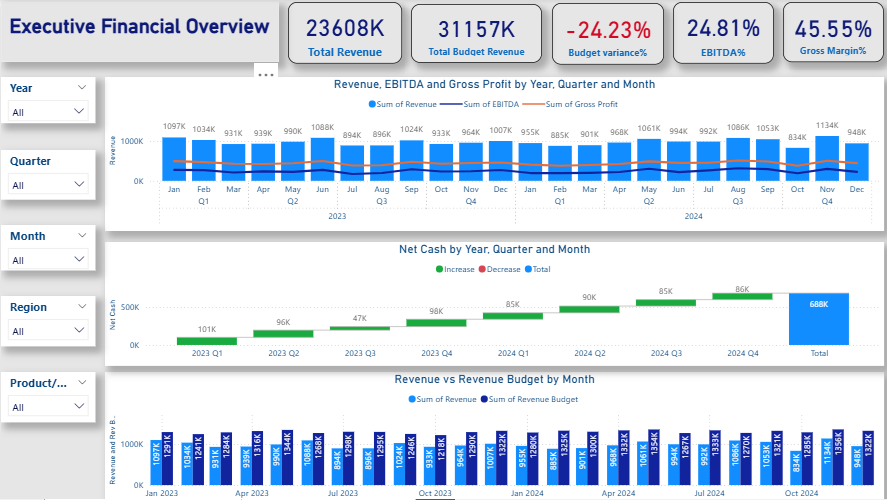

This screenshot's page, from the dashboard's own definition file:
{"tool":"powerbi","page":{"name":"Executive Financial Overview","canvas":[1280,720],"ordinal":0},"visuals":[{"type":"card","fields":{"Values":["Data.Total_Revenue"]},"box":[410.4,0,162.7,87.8],"z":0},{"type":"card","fields":{"Values":["Data.Gross_Margin%"]},"box":[1117.4,0,144,86.4],"z":1000},{"type":"card","fields":{"Values":["Data.EBITDA%"]},"box":[960.5,0,144,87.8],"z":2000},{"type":"lineClusteredColumnComboChart","title":"Revenue, EBITDA and Gross Profit by Year, Quarter and Month","fields":{"Y":["Sum(Data.Revenue)"],"Y2":["Sum(Data.EBITDA)","Sum(Data.Gross Profit)"],"Category":["DateTable.Year Hierarchy.Year","DateTable.Year Hierarchy.Quarter","DateTable.Year Hierarchy.Month_Name"]},"box":[148.3,106.6,1113.1,220.3],"z":3000},{"type":"clusteredColumnChart","title":"Revenue vs Revenue Budget by Month","fields":{"Category":["Data.Month.Variation.Date Hierarchy.Year"],"Y":["Sum(Data.Revenue)","Sum(Data.Revenue Budget)"]},"box":[148.2,528.9,1113.3,191.6],"z":4000},{"type":"waterfallChart","title":"Net Cash by Year, Quarter and Month","fields":{"Category":["DateTable.Year Hierarchy.Year","DateTable.Year Hierarchy.Quarter","DateTable.Year Hierarchy.Month_Name"],"Y":["Data.Net_Cash"]},"box":[148.2,343.4,1113.3,177.1],"z":5000},{"type":"slicer","fields":{"Values":["DateTable.Year"]},"box":[0,107.2,134.9,66.3],"z":6000},{"type":"slicer","fields":{"Values":["DateTable.Quarter"]},"box":[0,211.7,135.4,70.6],"z":7000},{"type":"slicer","fields":{"Values":["DateTable.Month_Name"]},"box":[0,318.2,135.4,64.8],"z":8000},{"type":"textbox","box":[0,0,397.4,86.4],"z":9000},{"type":"slicer","fields":{"Values":["Data.Region"]},"box":[0,420.5,135.4,72],"z":10000},{"type":"slicer","fields":{"Values":["Data.Product/Service"]},"box":[0,528.5,135.4,72],"z":11000},{"type":"card","fields":{"Values":["Data.Total_Budget_variance%"]},"box":[787.7,1.4,159.8,87.8],"z":12000},{"type":"card","fields":{"Values":["Data.Total_Budget_Revenue"]},"box":[585.7,2.9,187.1,84.3],"z":13000}]}

Visuals, with their boxes in screenshot pixels (x1, y1, x2, y2), scaled from the page's 1280x720 canvas onto the 887x500 screenshot:
card - Data.Total_Revenue: <box>284,0,397,61</box>
card - Data.Gross_Margin%: <box>774,0,874,60</box>
card - Data.EBITDA%: <box>666,0,765,61</box>
"Revenue, EBITDA and Gross Profit by Year, Quarter and Month" lineClusteredColumnComboChart: <box>103,74,874,227</box>
"Revenue vs Revenue Budget by Month" clusteredColumnChart: <box>103,367,874,499</box>
"Net Cash by Year, Quarter and Month" waterfallChart: <box>103,238,874,361</box>
slicer - DateTable.Year: <box>0,74,93,120</box>
slicer - DateTable.Quarter: <box>0,147,94,196</box>
slicer - DateTable.Month_Name: <box>0,221,94,266</box>
textbox: <box>0,0,275,60</box>
slicer - Data.Region: <box>0,292,94,342</box>
slicer - Data.Product/Service: <box>0,367,94,417</box>
card - Data.Total_Budget_variance%: <box>546,1,657,62</box>
card - Data.Total_Budget_Revenue: <box>406,2,536,61</box>
